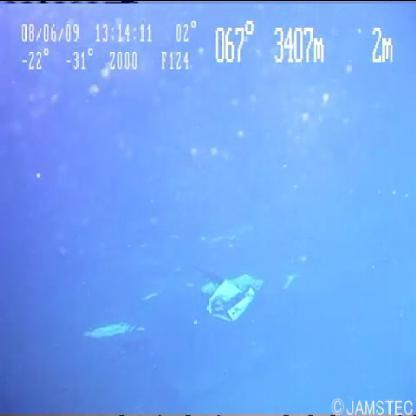Rác: (194, 254, 276, 332)
